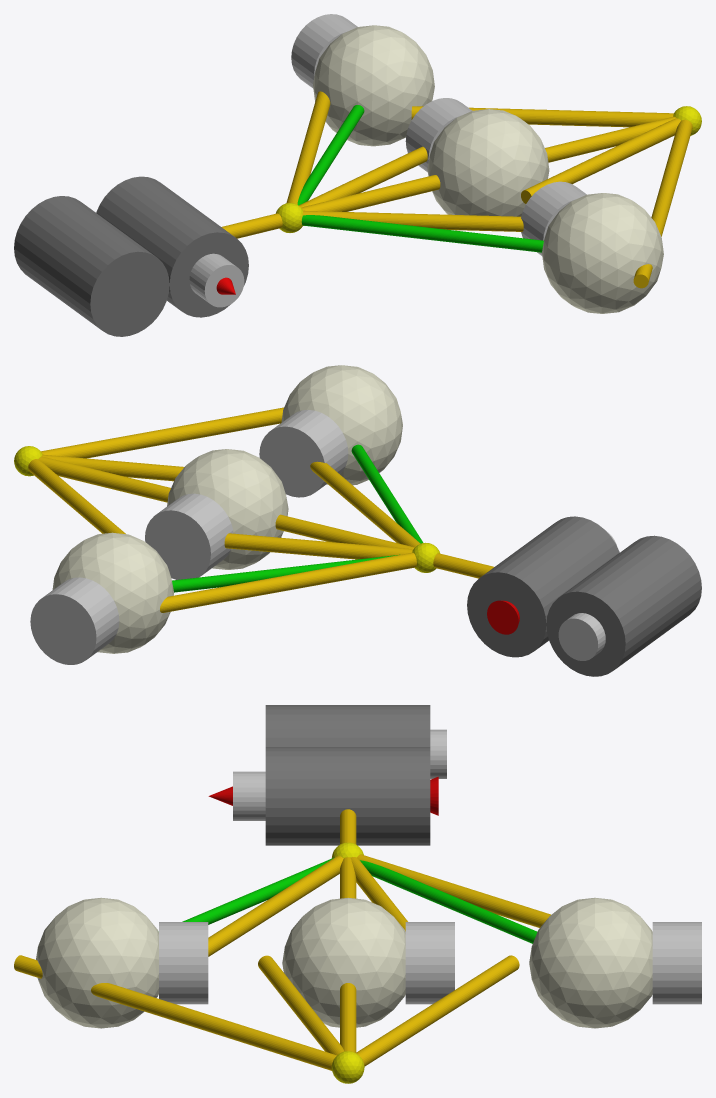
Rendered from parallel_circuit.glb.
3 views of the same model, one above another, from view 1: azimuth 30°, elevation 25°; view 2: azimuth 150°, elevation 25°; view 3: azimuth 270°, elevation 25° (orthographic). The views are drawn at different scales.
Visible parts, largest first — view 1: world; view 2: world; view 3: world.
Part boxes in pixels (box(x1,y1,x2,y2)): world: box(14, 14, 701, 336); world: box(14, 365, 701, 676); world: box(14, 705, 701, 1083).
Bounding box in the file's own units: 4.9 × 0.8 × 4.18.
